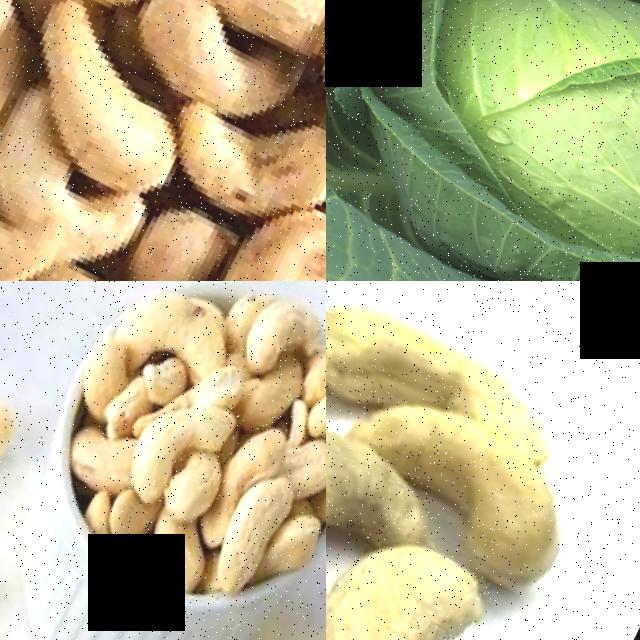cabbage: (326, 0, 640, 281)
cashew: (343, 360, 640, 575), (326, 281, 612, 450), (0, 0, 213, 208), (326, 505, 580, 640), (109, 0, 315, 118), (182, 146, 326, 281), (114, 374, 233, 517), (104, 281, 264, 387), (0, 114, 96, 281), (326, 367, 397, 592), (0, 348, 79, 538), (211, 448, 317, 583), (41, 297, 156, 410), (120, 175, 234, 281), (202, 399, 286, 535), (234, 281, 326, 387), (0, 0, 58, 154), (145, 504, 230, 592), (266, 410, 326, 505), (208, 0, 326, 47), (37, 249, 162, 281), (109, 479, 162, 534), (117, 523, 169, 576)
